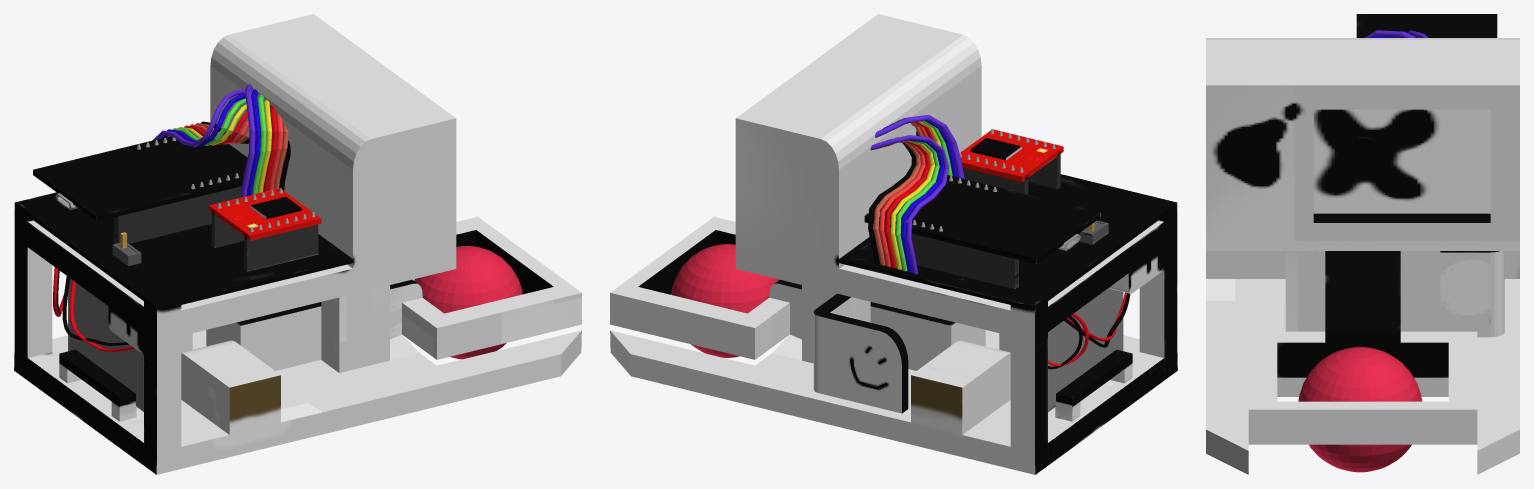
File: TuFu_Ball.glb
The picture shows the model from 3 angles, left to right: view 1: azimuth 30°, elevation 25°; view 2: azimuth 150°, elevation 25°; view 3: azimuth 270°, elevation 25°; orthographic projection. The views are drawn at different scales.
Parts seen in each view (by area): view 1: Tufu; view 2: Tufu; view 3: Tufu.
Boxes of the visible parts, left/top/right/bottom form: Tufu: left=14, top=14, right=581, bottom=474; Tufu: left=610, top=14, right=1177, bottom=474; Tufu: left=1206, top=14, right=1519, bottom=474.
Bounding box in the file's own units: 7.47 × 4.83 × 4.06.
Materials: 13 (1 with a texture image).
